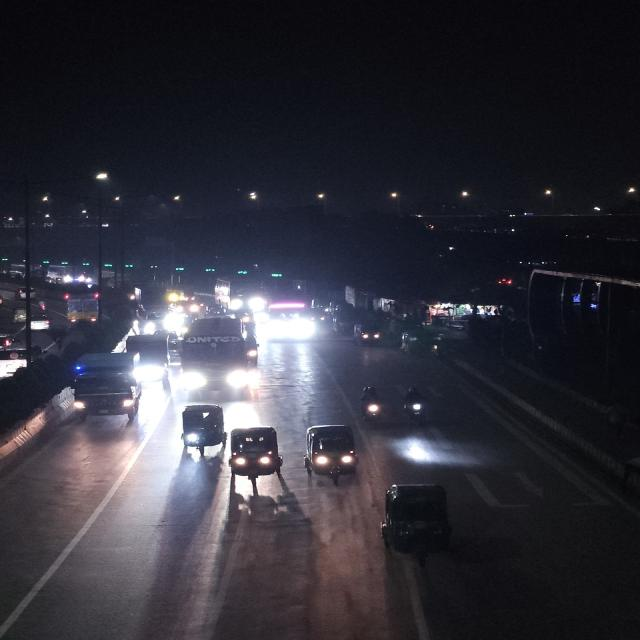bus: (176, 314, 262, 400), (258, 282, 315, 342), (216, 276, 261, 312)
car: (24, 312, 52, 330)
cng: (375, 481, 458, 567), (299, 421, 363, 487), (224, 423, 286, 488), (175, 401, 227, 456), (351, 319, 386, 347)
motorcycle: (399, 384, 432, 429), (357, 384, 386, 428)
truck: (71, 352, 148, 426), (126, 330, 172, 394), (61, 290, 101, 327)
